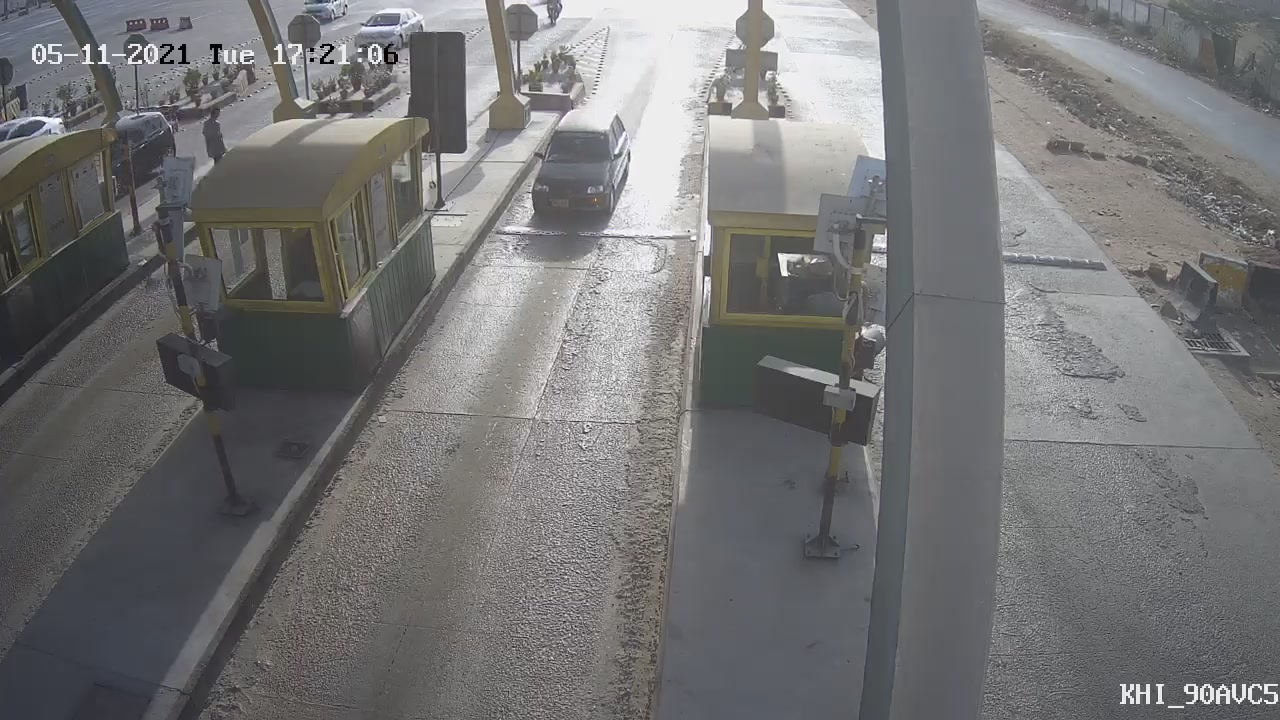F1: (508, 96, 655, 240)
